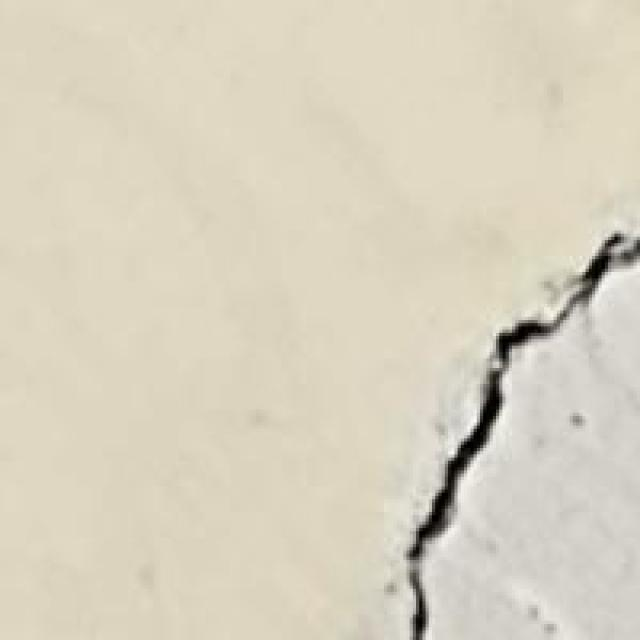Crack: (342, 221, 637, 637)
